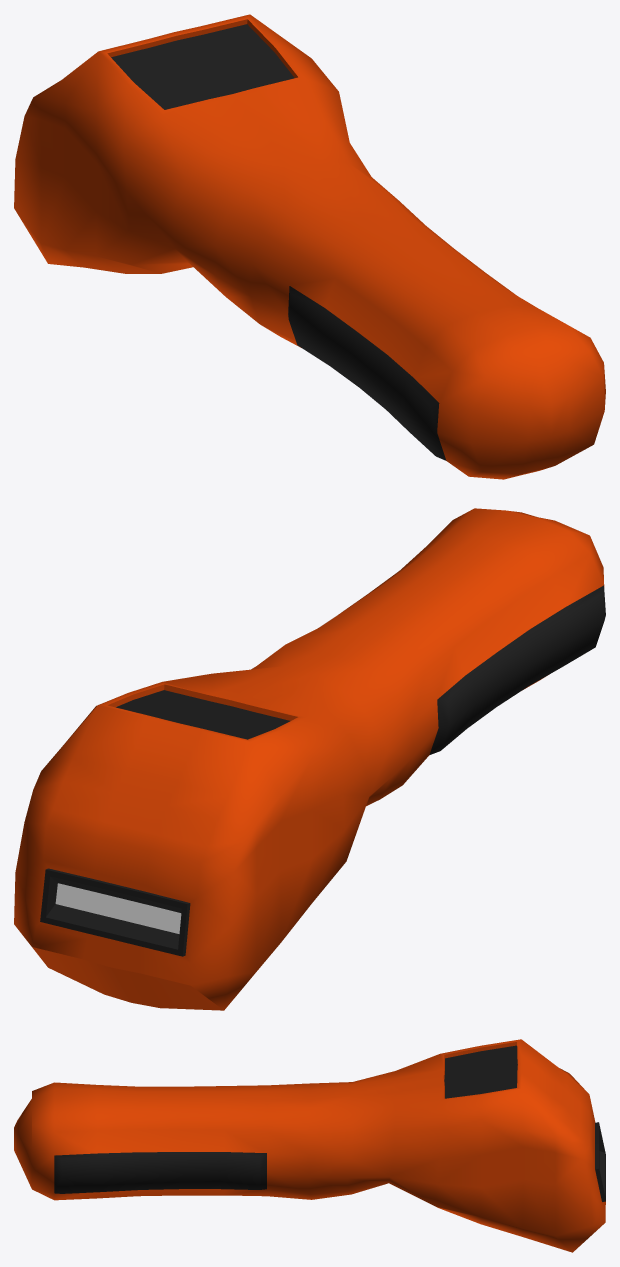
The model's file is Mockup_TagGun (1).FBX.
3 views of the same model, one above another, from view 1: azimuth 30°, elevation 25°; view 2: azimuth 150°, elevation 25°; view 3: azimuth 270°, elevation 25° (orthographic). The views are drawn at different scales.
Visible parts, largest first — view 1: Box001; view 2: Box001; view 3: Box001.
Boxes of the visible parts, x1,y1,x2,y2 form: Box001: [14, 14, 605, 479]; Box001: [14, 508, 605, 1010]; Box001: [14, 1039, 605, 1252].
Size of the model in its own units: 6.3 by 6.92 by 22.26.
